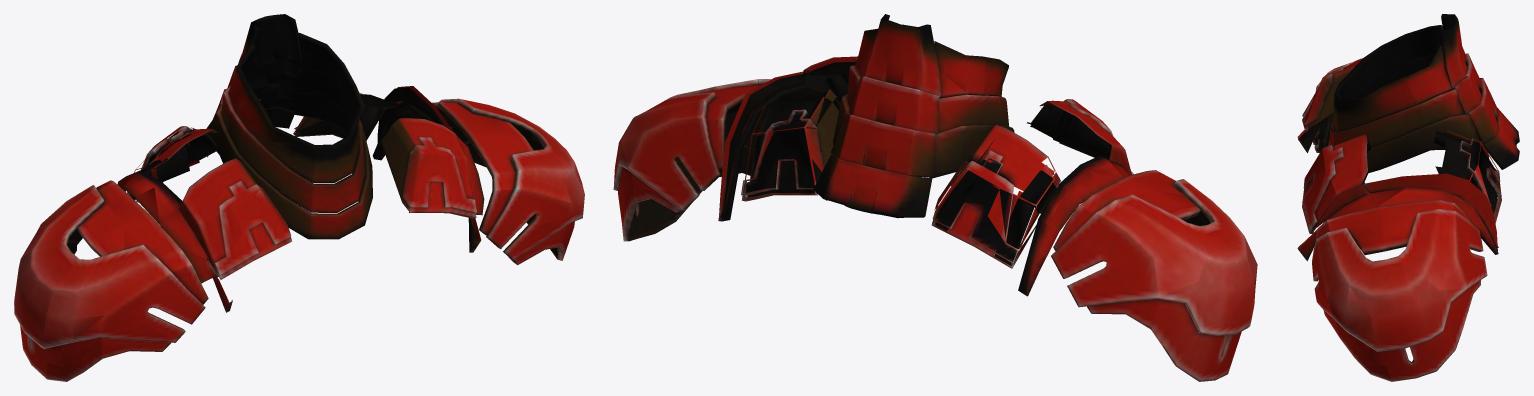
Rendered from shoulder.glb.
3 renders of one model, left to right at view 1: azimuth 30°, elevation 25°; view 2: azimuth 150°, elevation 25°; view 3: azimuth 270°, elevation 25°, orthographic. The views are drawn at different scales.
Visible parts, largest first — view 1: Object_86.003, RT.hand_60, body .037_36, body .015_14, body .014_13, Object_86.001, body .038_37, body .039_38, Object_86.002, body .016_15, body .036_35, body .013_12 (+2 smaller); view 2: Object_86.003, RT.hand_60, body .036_35, body .015_14.001, body .014_13.001, Object_86.001, body .037_36, body .013_12, body .016_15, body .039_38, body .015_14, body .038_37 (+2 smaller); view 3: RT.hand_60, body .037_36, body .013_12, body .038_37, body .014_13, body .039_38, body .014_13.001, body .036_35, body .015_14, Object_86.003, body .016_15, Object_86.001.
Boxes of the visible parts, x1,y1,x2,y2 form: Object_86.003: (14, 181, 207, 380); RT.hand_60: (432, 98, 584, 265); body .037_36: (228, 14, 364, 182); body .015_14: (178, 158, 292, 279); body .014_13: (380, 118, 476, 218); Object_86.001: (14, 180, 208, 371); body .038_37: (221, 59, 365, 212); body .039_38: (208, 82, 372, 239); Object_86.002: (46, 203, 187, 381); body .016_15: (117, 170, 232, 312); body .036_35: (206, 14, 294, 134); body .013_12: (372, 86, 484, 252); Object_86.003: (1053, 177, 1254, 381); RT.hand_60: (613, 79, 789, 241); body .036_35: (813, 19, 932, 218); body .015_14.001: (931, 124, 1060, 268); body .014_13.001: (741, 89, 839, 201); Object_86.001: (1051, 170, 1257, 366); body .037_36: (855, 14, 1008, 97); body .013_12: (718, 71, 840, 221); body .016_15: (1018, 155, 1129, 296); body .039_38: (830, 94, 1014, 178); body .015_14: (1027, 99, 1133, 175); body .038_37: (847, 65, 1009, 134); RT.hand_60: (1312, 200, 1487, 381); body .037_36: (1334, 14, 1465, 132); body .013_12: (1297, 173, 1498, 261); body .038_37: (1330, 55, 1479, 147); body .014_13: (1302, 134, 1371, 233); body .039_38: (1328, 78, 1496, 173); body .014_13.001: (1433, 127, 1501, 223); body .036_35: (1451, 15, 1519, 169); body .015_14: (1302, 58, 1362, 130); Object_86.003: (1313, 59, 1428, 152); body .016_15: (1297, 117, 1327, 152); Object_86.001: (1314, 58, 1406, 151).
Size of the model in its own units: 0.8726 by 0.4203 by 0.3596.
3 materials, 3 textured.
